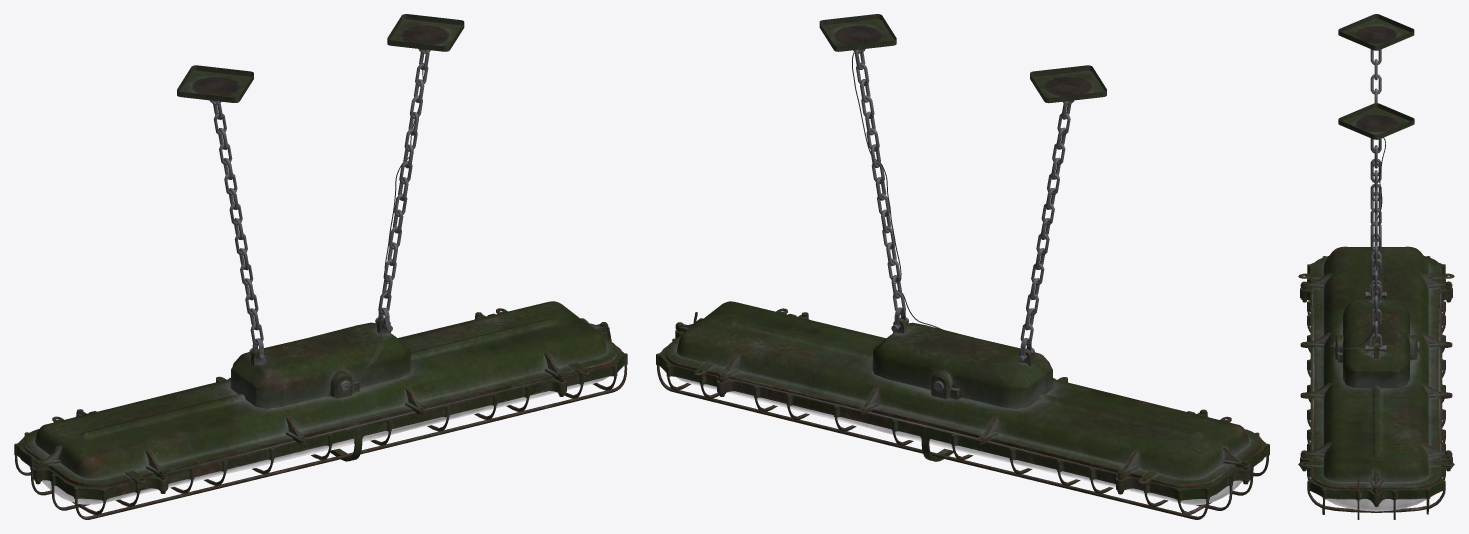
File: caged_light.glb
3 renders of one model, left to right at view 1: azimuth 30°, elevation 25°; view 2: azimuth 150°, elevation 25°; view 3: azimuth 270°, elevation 25°, orthographic. The views are drawn at different scales.
Parts seen in each view (by area): view 1: caged_hanging_light; view 2: caged_hanging_light; view 3: caged_hanging_light.
Part boxes in pixels (x1,y1,x2,y2): caged_hanging_light: [14, 14, 627, 519]; caged_hanging_light: [656, 14, 1269, 519]; caged_hanging_light: [1298, 14, 1454, 519].
Size of the model in its own units: 1.16 by 0.7501 by 0.3149.
1 material, 1 textured.
